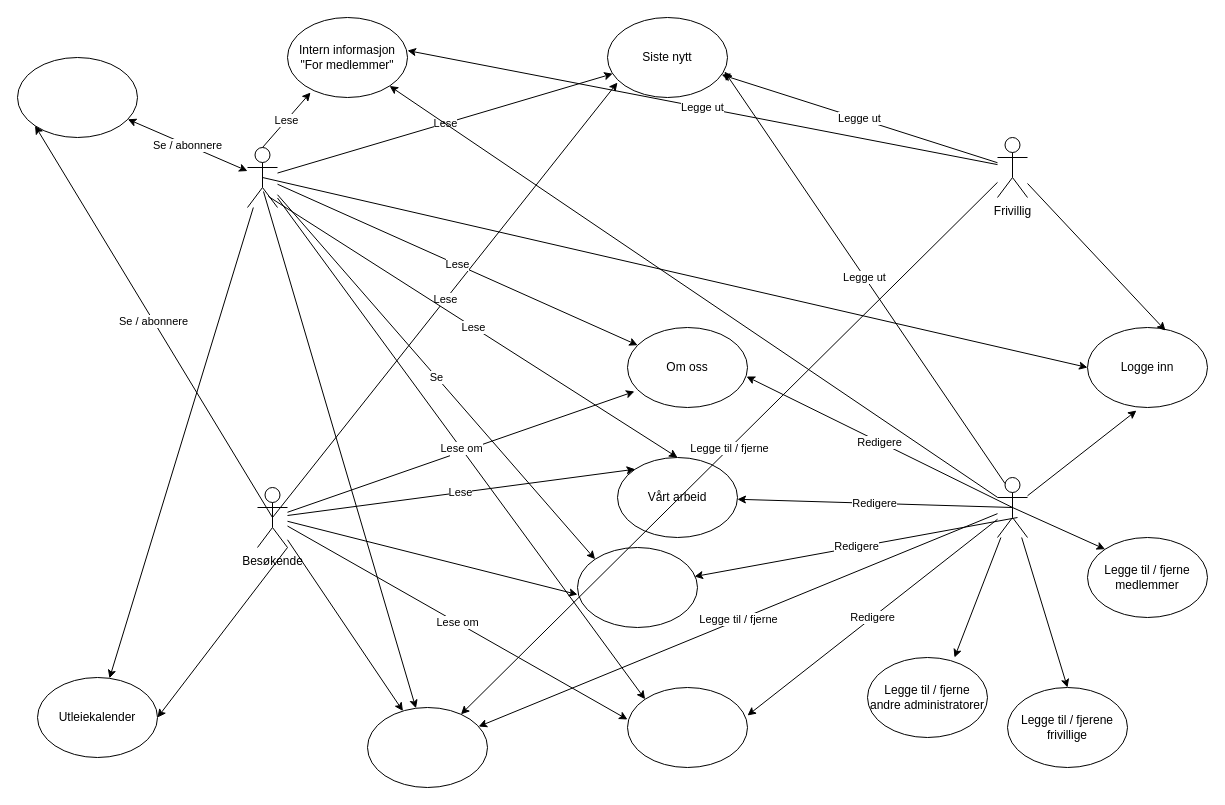
Some shapes in this 1225 by 805 pixel diagram are drawn without their labels. Each missing label, with the centre of its shape:
"Administrator" belongs at pixel 1012 507.
"Kalender" belongs at pixel 77 97.
"Kontakt info" belongs at pixel 637 587.
"Medlem" belongs at pixel 262 177.
"Opptak" belongs at pixel 427 747.
"Utleieinfo" belongs at pixel 687 727.
